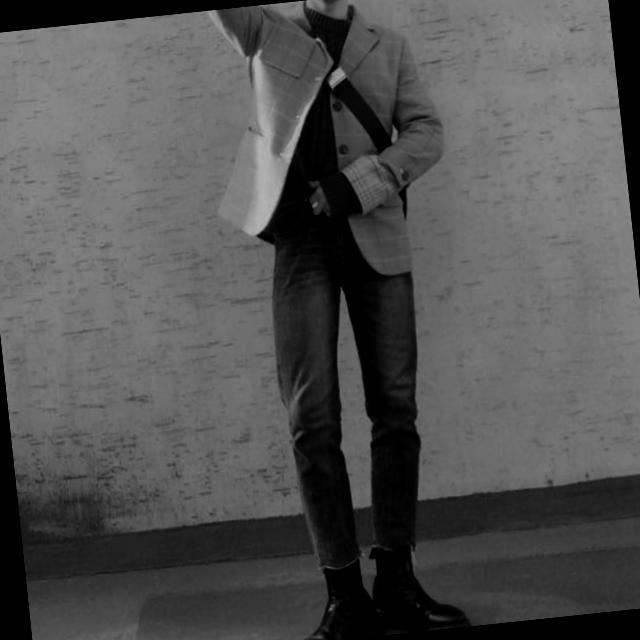blazer: (197, 0, 459, 291)
denimpants: (257, 187, 440, 574)
sweater: (265, 0, 374, 227)
